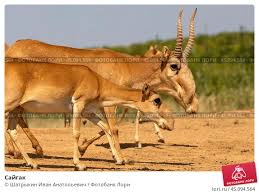saiga: (8, 7, 202, 163), (3, 57, 176, 168)
